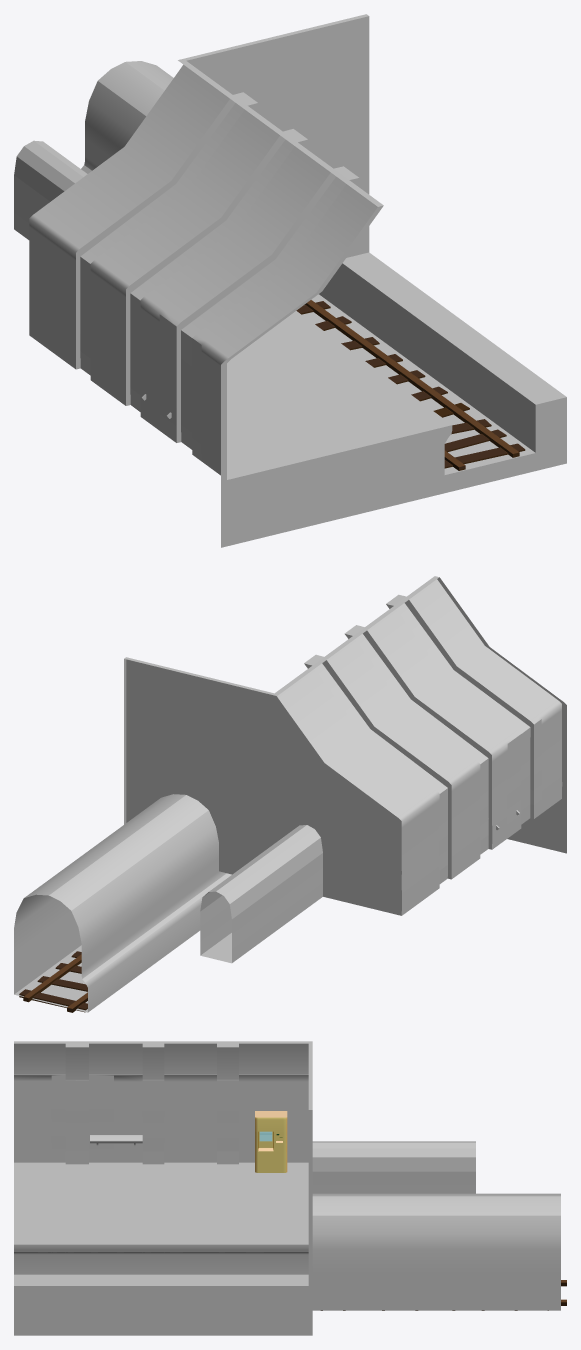
File: station 6.fbx
The picture shows the model from 3 angles, top to bottom: view 1: azimuth 30°, elevation 25°; view 2: azimuth 150°, elevation 25°; view 3: azimuth 270°, elevation 25°; orthographic projection. The views are drawn at different scales.
Visible parts, largest first — view 1: env_6, track_5; view 2: env_6, track_5; view 3: env_6, ticket_machine1, pCube78.
Boxes of the visible parts, <box> form: env_6: <box>14,14,566,547</box>; track_5: <box>296,300,525,470</box>; env_6: <box>14,576,566,1012</box>; track_5: <box>19,951,87,1012</box>; env_6: <box>14,1041,560,1335</box>; ticket_machine1: <box>255,1111,287,1172</box>; pCube78: <box>90,1135,142,1146</box>.
Size of the model in its own units: 20.01 by 16.74 by 37.19.
